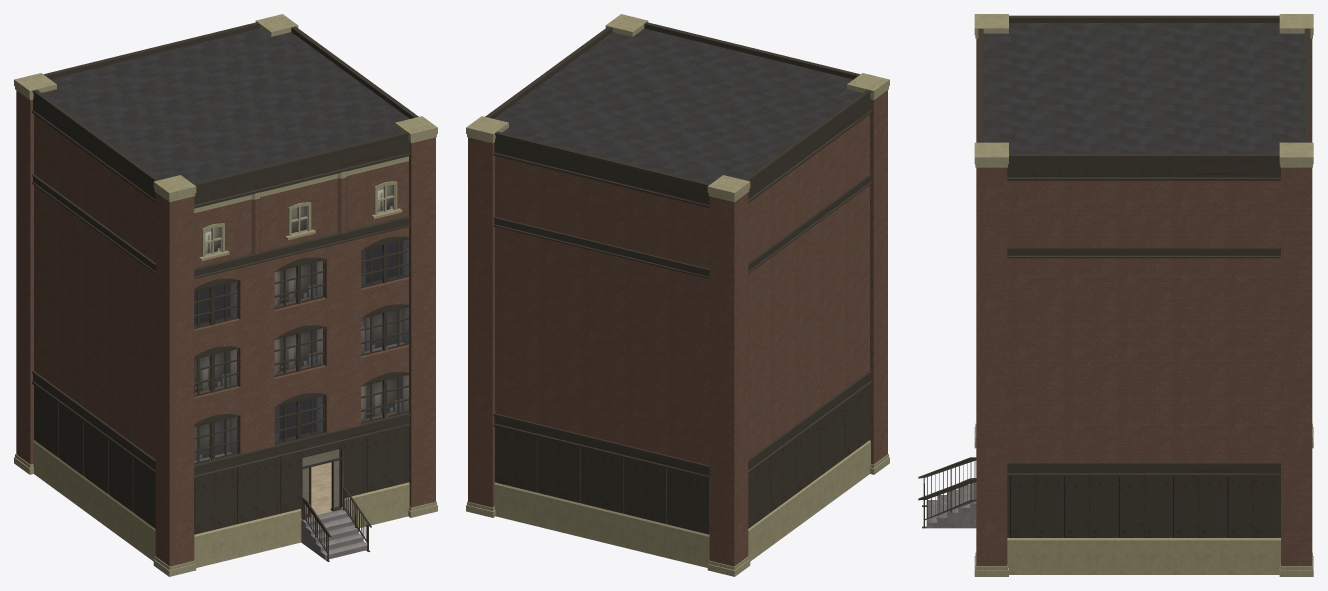
Rendered from building-small-1_lod1.glb.
3 renders of one model, left to right at view 1: azimuth 30°, elevation 25°; view 2: azimuth 150°, elevation 25°; view 3: azimuth 270°, elevation 25°, orthographic. The views are drawn at different scales.
Bounding box in the file's own units: 12.46 × 17.03 × 14.54.
10 materials, 9 textured.
